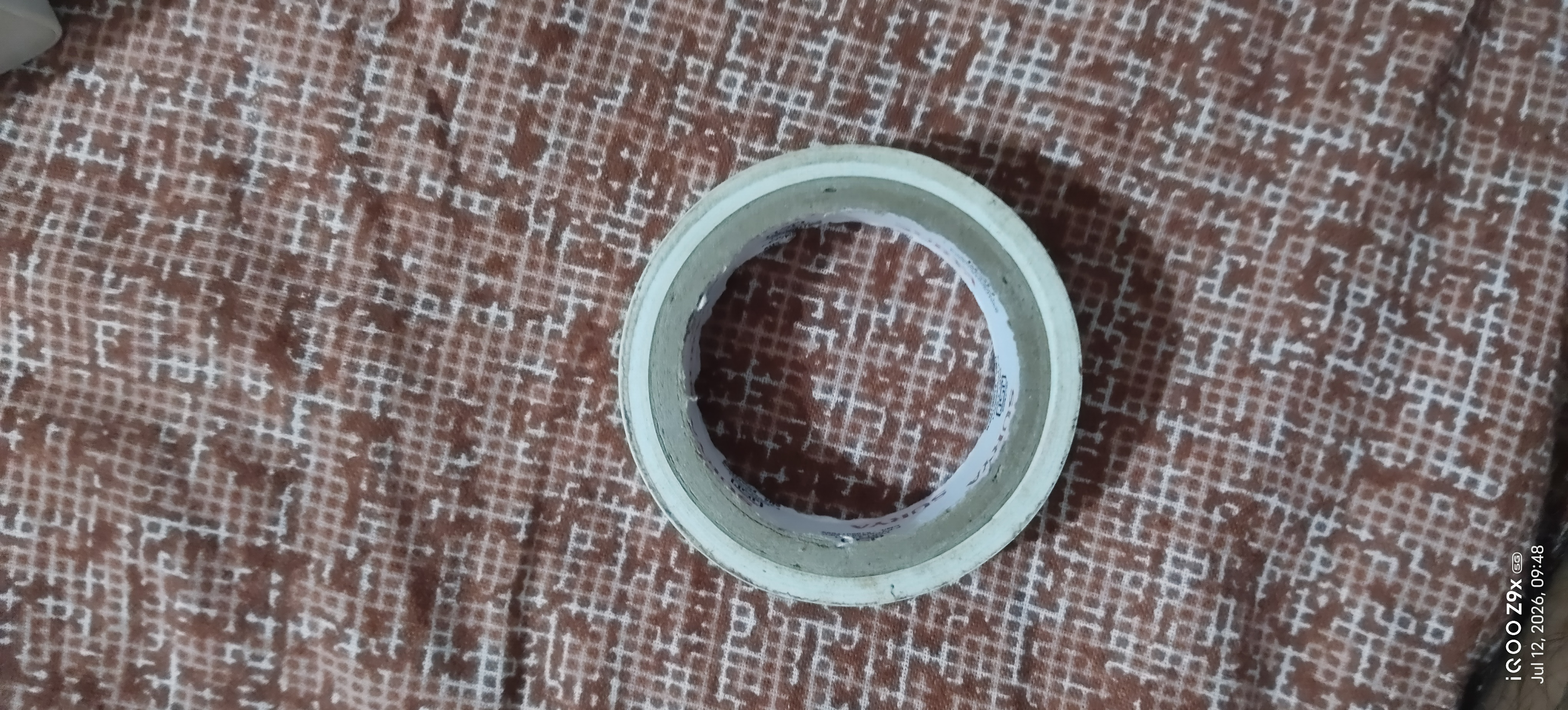tape_roll: (571, 123, 1108, 616)
